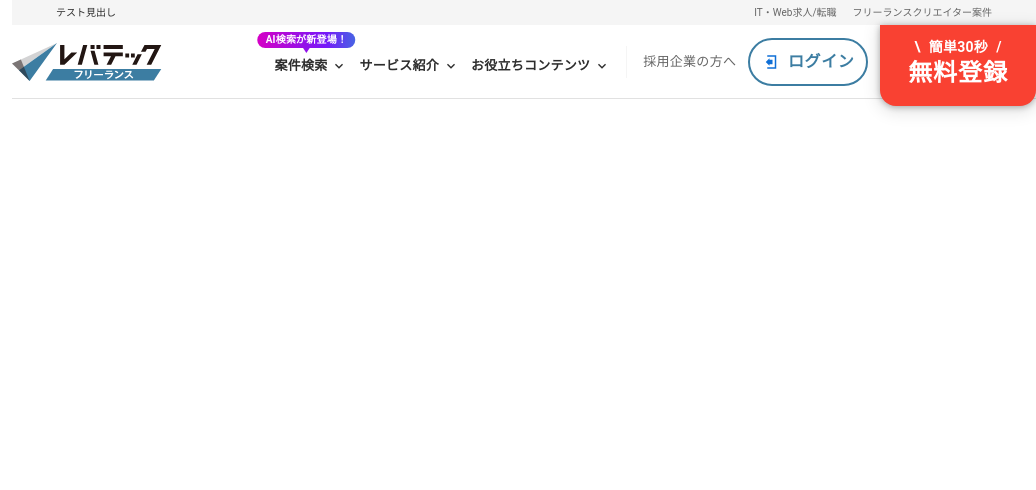
Test case: HeaderPc › pCヘッダー / 検証: 複数メニューのホバー / 期待: 最後のメニューだけ開く
Hover over the link "案件検索".
mouse_move(311, 62)  # box top-left (274, 40), bottom-right (347, 83)
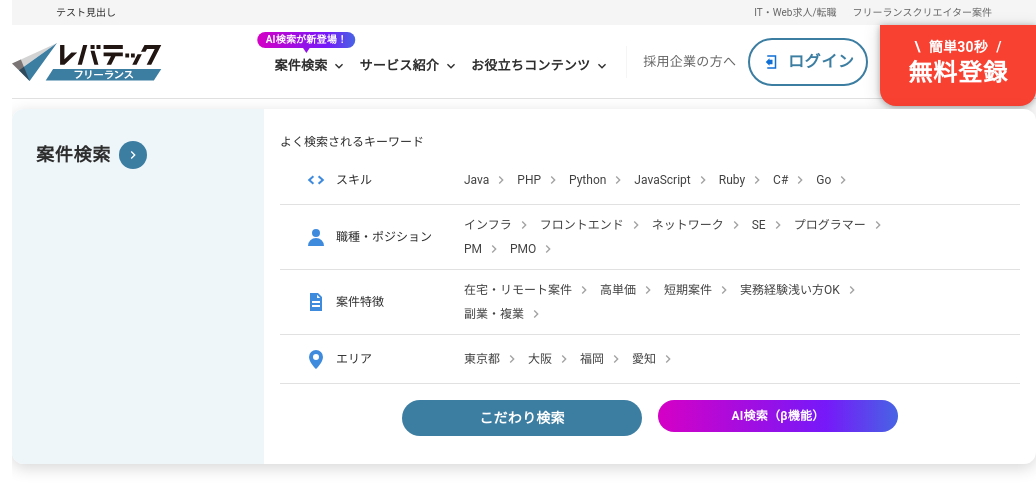
Hover over the link "お役立ちコンテンツ".
mouse_move(541, 66)  # box top-left (471, 58), bottom-right (610, 74)
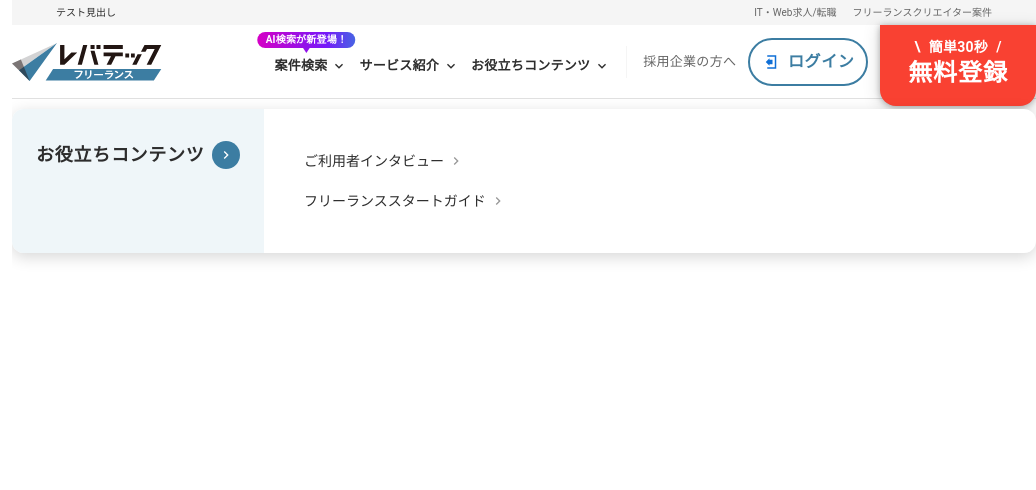
Expected: the link "ご利用者インタビュー" is shown, top-left (304, 153), bottom-right (464, 169)
